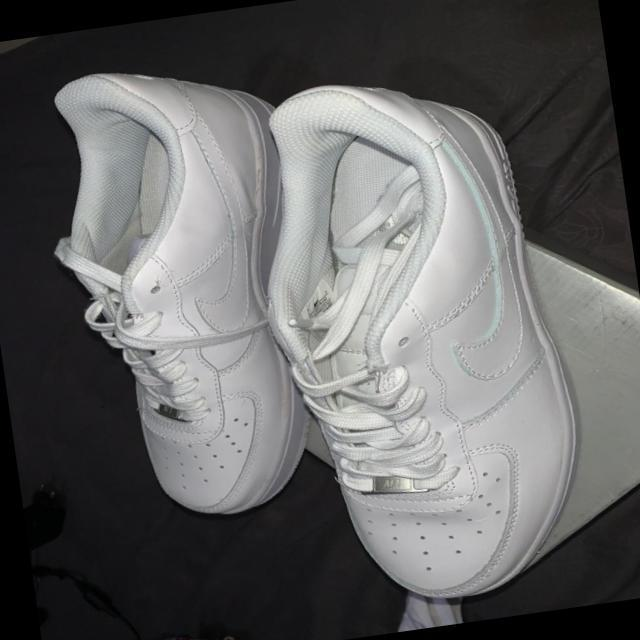nike fake air force: (248, 55, 609, 640), (25, 46, 331, 548)
